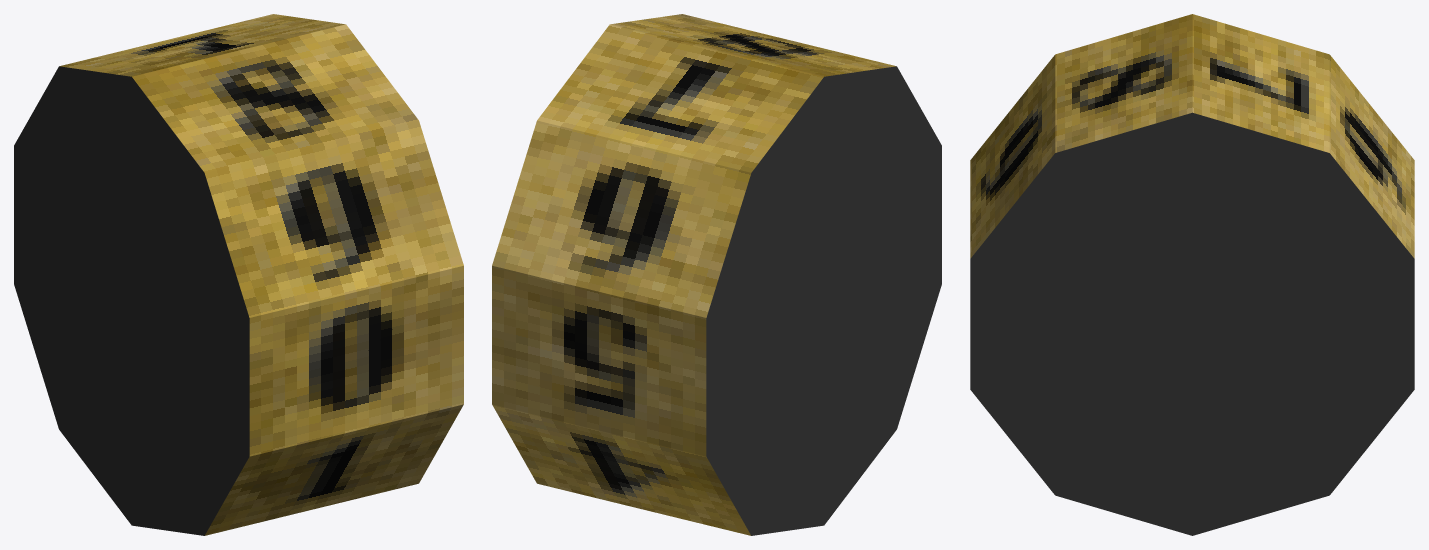
Rendered from number_cylinder.glb.
The picture shows the model from 3 angles, left to right: view 1: azimuth 30°, elevation 25°; view 2: azimuth 150°, elevation 25°; view 3: azimuth 270°, elevation 25°; orthographic projection. The views are drawn at different scales.
Parts seen in each view (by area): view 1: number_cylinder; view 2: number_cylinder; view 3: number_cylinder.
Part boxes in pixels (x1,y1,x2,y2): number_cylinder: [14, 14, 463, 535]; number_cylinder: [492, 14, 941, 535]; number_cylinder: [970, 14, 1414, 535].
Bounding box in the file's own units: 0.1 × 0.2 × 0.1902.
Materials: 2 (1 with a texture image).
